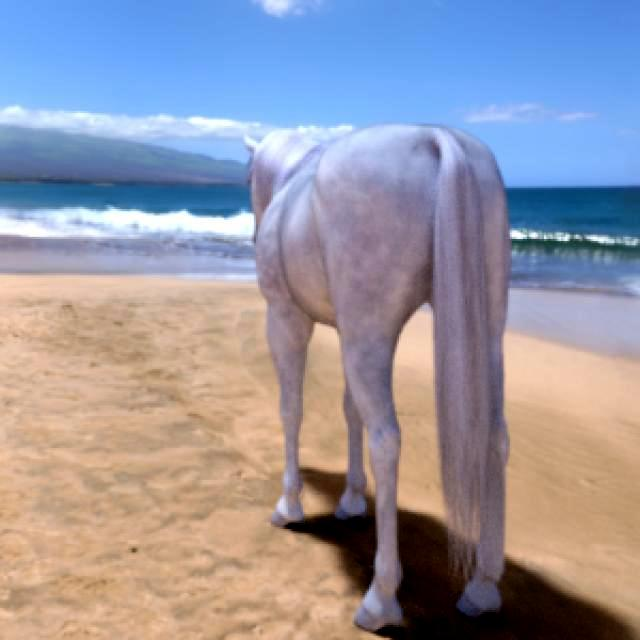horse: (246, 124, 510, 631)
